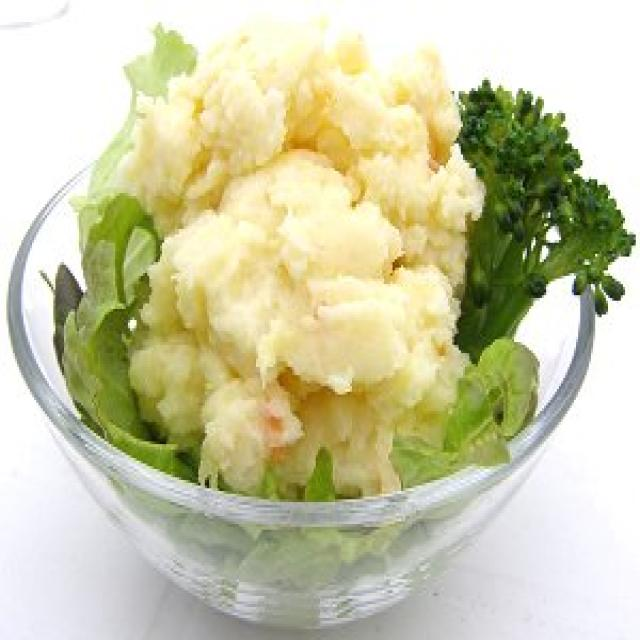蔬菜料理: (4, 11, 606, 632)
